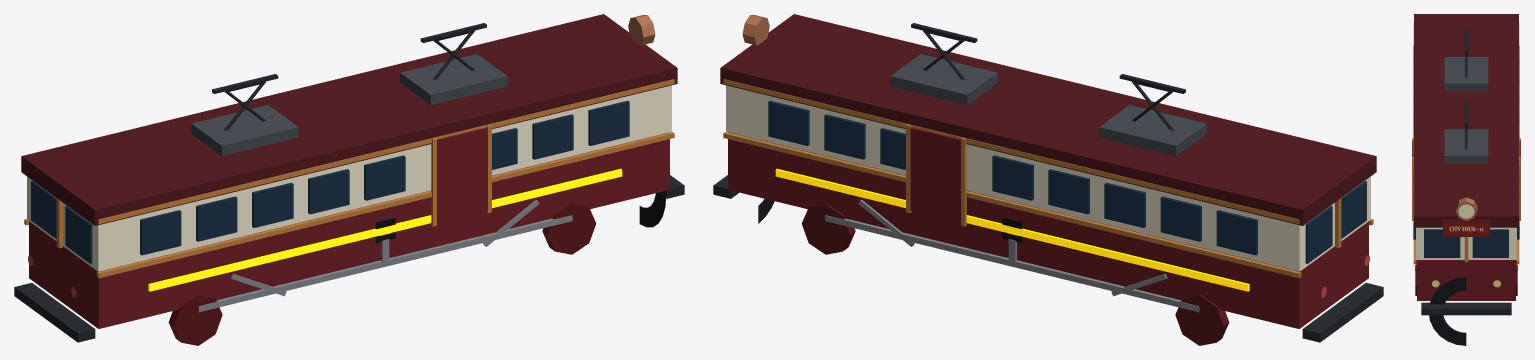
The model's file is tram.glb.
3 views of the same model, side by side, from view 1: azimuth 30°, elevation 25°; view 2: azimuth 150°, elevation 25°; view 3: azimuth 270°, elevation 25° (orthographic). The views are drawn at different scales.
Visible parts, largest first — view 1: n5, n1, n3, n23, n9, n66, n113, n115, n13, n133, n81, n129 (+14 smaller); view 2: n5, n1, n3, n15, n7, n63, n113, n115, n11, n121, n81, n117 (+13 smaller); view 3: n5, n1, n115, n113, n91, n95, n3, n85, n87, n74, n72, n69 (+8 smaller).
Part boxes in pixels (x1,y1,x2,y2): n5: (21, 14, 677, 225); n1: (29, 132, 669, 328); n3: (27, 85, 671, 271); n23: (437, 127, 487, 222); n9: (96, 132, 674, 278); n66: (148, 168, 622, 291); n113: (191, 105, 298, 155); n115: (400, 54, 507, 105); n13: (98, 79, 674, 224); n133: (198, 215, 572, 312); n81: (14, 283, 95, 342); n129: (168, 294, 222, 345); n5: (720, 14, 1376, 225); n1: (728, 132, 1368, 328); n3: (726, 85, 1370, 271); n15: (910, 127, 960, 222); n7: (723, 132, 1301, 278); n63: (775, 168, 1249, 291); n113: (1099, 105, 1206, 155); n115: (890, 54, 997, 105); n11: (723, 79, 1299, 224); n121: (825, 215, 1199, 312); n81: (1302, 283, 1383, 342); n117: (1175, 294, 1229, 345); n5: (1414, 14, 1518, 227); n1: (1417, 260, 1515, 300); n115: (1444, 129, 1488, 163); n113: (1444, 57, 1488, 90); n91: (1421, 302, 1511, 315); n95: (1429, 277, 1466, 345); n3: (1416, 227, 1516, 259); n85: (1472, 229, 1508, 257); n87: (1424, 229, 1460, 257); n74: (1444, 222, 1488, 235); n72: (1443, 220, 1489, 236); n69: (1455, 197, 1477, 220).
Bounding box in the file's own units: 5.52 × 2.07 × 1.21.
22 materials, 3 textured.
